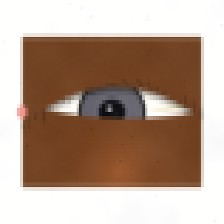pterygium_lesion: (142, 87, 203, 137)
